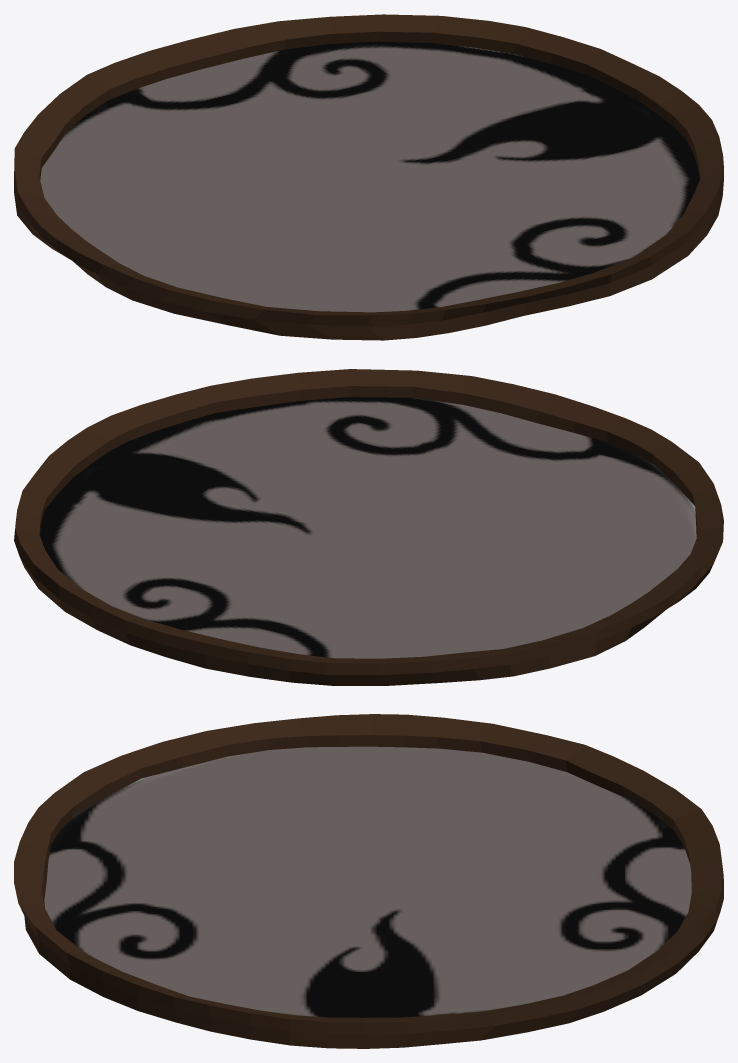
The model's file is RoundFrame1.fbx.
3 views of the same model, one above another, from view 1: azimuth 30°, elevation 25°; view 2: azimuth 150°, elevation 25°; view 3: azimuth 270°, elevation 25° (orthographic). The views are drawn at different scales.
Visible parts, largest first — view 1: RundFrame1; view 2: RundFrame1; view 3: RundFrame1.
Boxes of the visible parts, x1,y1,x2,y2 form: RundFrame1: (14,14,723,340); RundFrame1: (14,369,723,685); RundFrame1: (14,714,723,1048).
Size of the model in its own units: 297 by 11.48 by 288.
